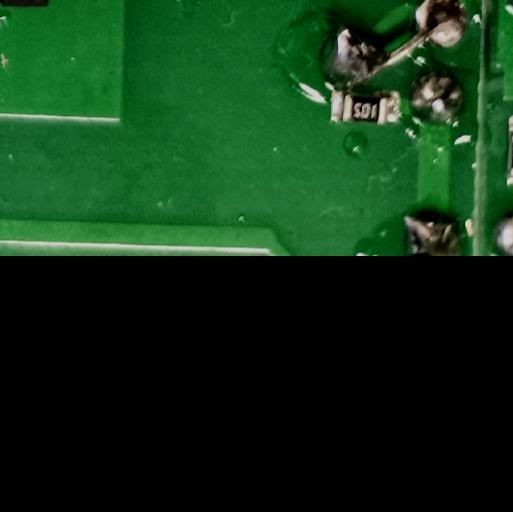chip-resistor: (324, 90, 401, 128), (504, 111, 513, 191)
